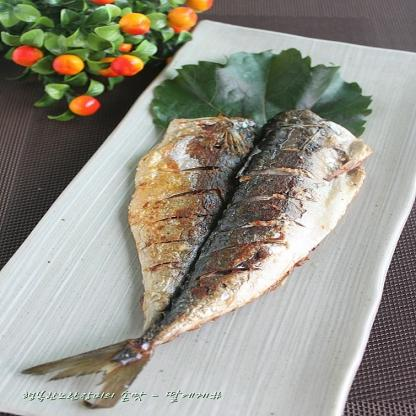Peixe: (1, 104, 381, 403)
